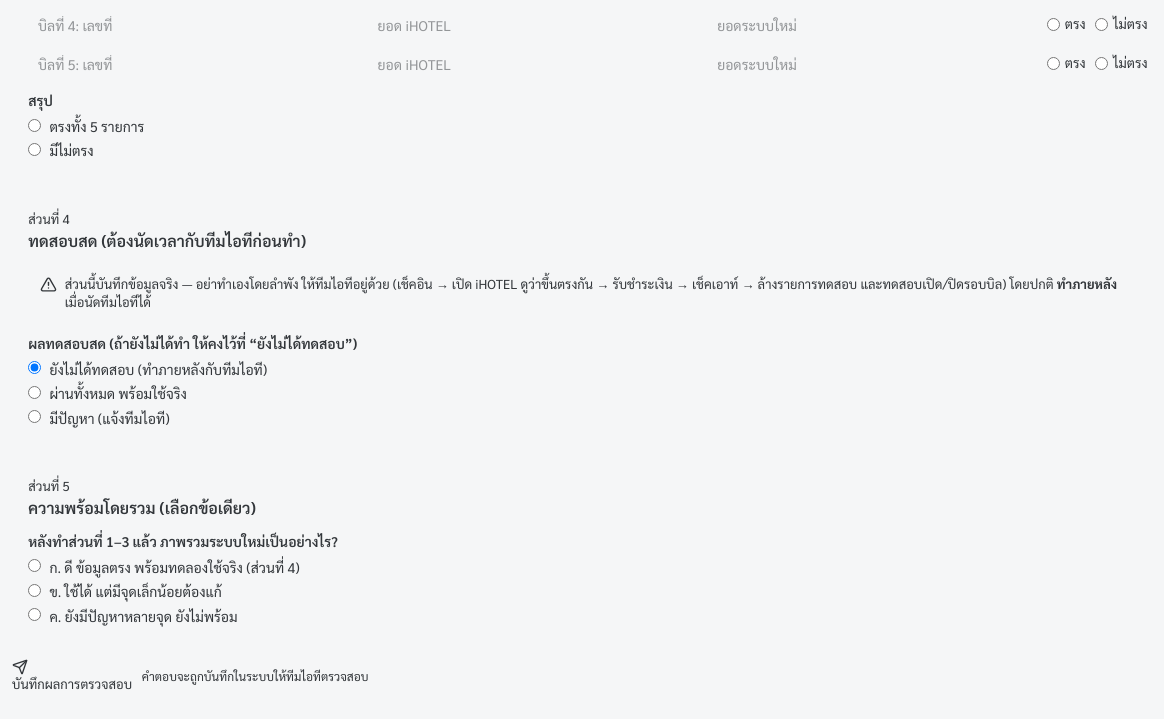
Test: V2Verification — reception verification form › POSTs the answers as JSON to /api/verification on a valid submit
The image size is (1164, 719).
(page scrolled)
Click the radio button labelled "ก. ดี ข้อมูลตรง พร้อมทดลองใช้จริง (ส่วนที่ 4)" at (35, 566), box x1=28 y1=560 x2=41 y2=572
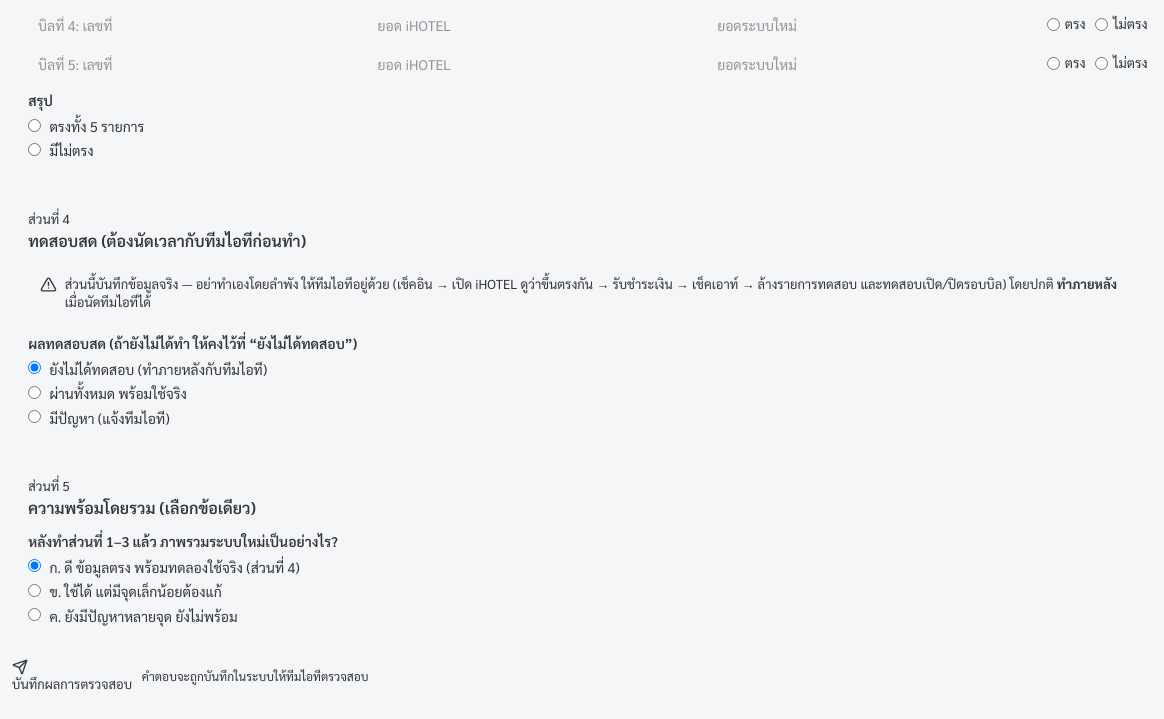
Click the button "บันทึกผลการตรวจสอบ" at (72, 676), box x1=12 y1=659 x2=132 y2=693
(page scrolled)
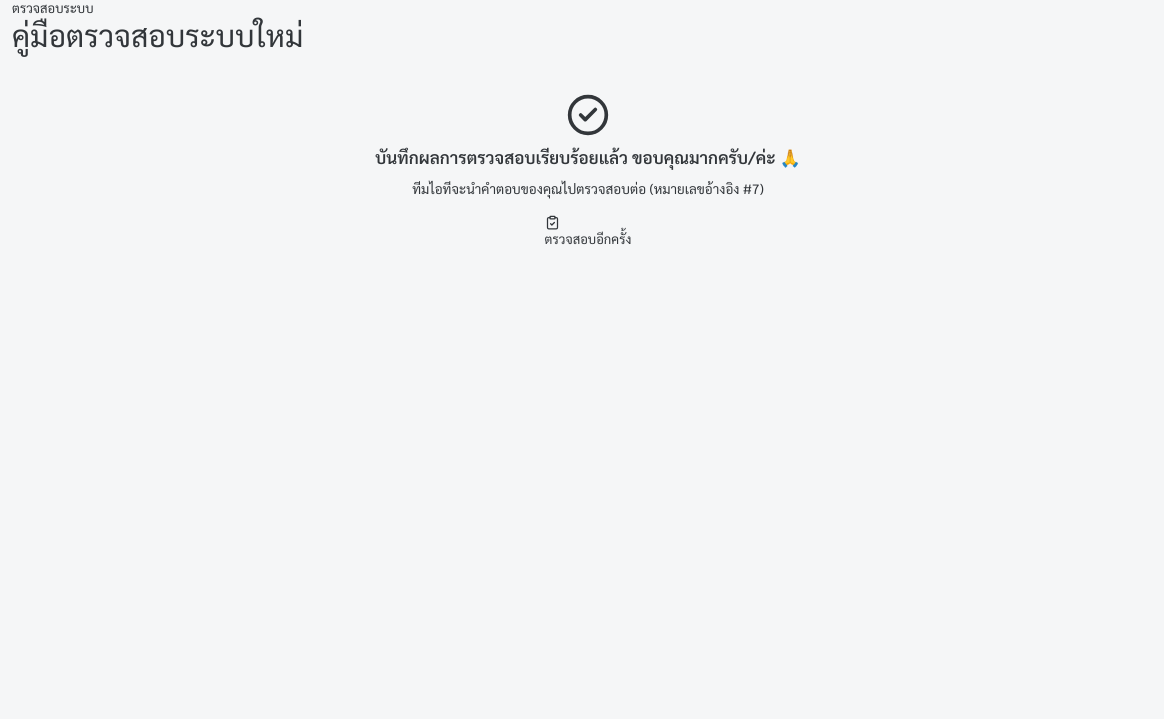
Result: the text "บันทึกผลการตรวจสอบเรียบร้อยแล้ว ขอบคุณมากครับ/ค่ะ 🙏" is shown at x1=375 y1=146 x2=801 y2=170
